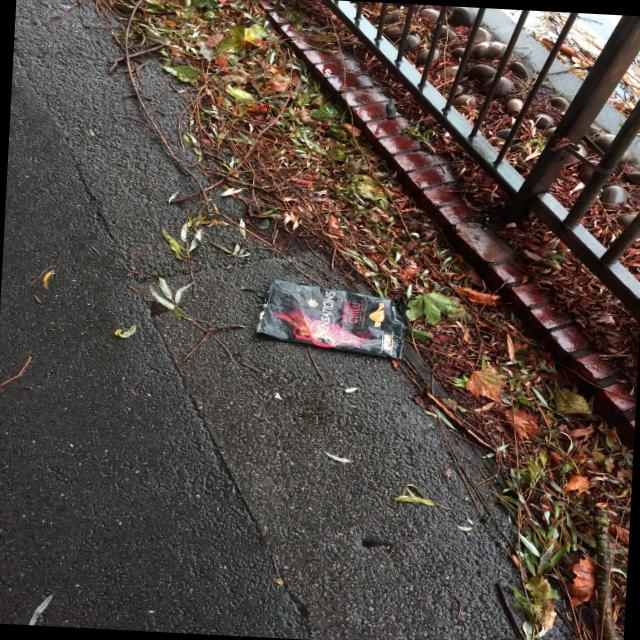less trash: (258, 280, 405, 359)
